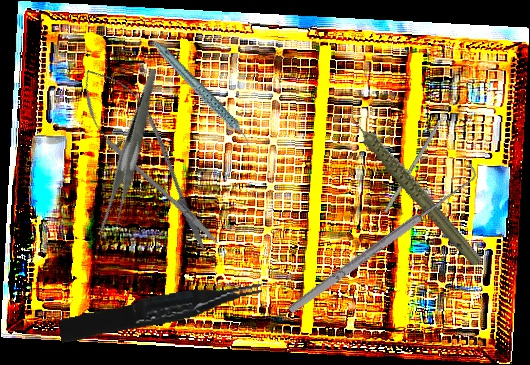Dressing Forceps: (60, 68, 204, 240)
Handpiece: (344, 84, 485, 287), (151, 26, 253, 163)
Hook Surgical: (281, 162, 483, 317)
Micro Scissor: (65, 55, 234, 263)
Pusher: (383, 100, 454, 214)
Tissue Forceps: (56, 279, 266, 343)
